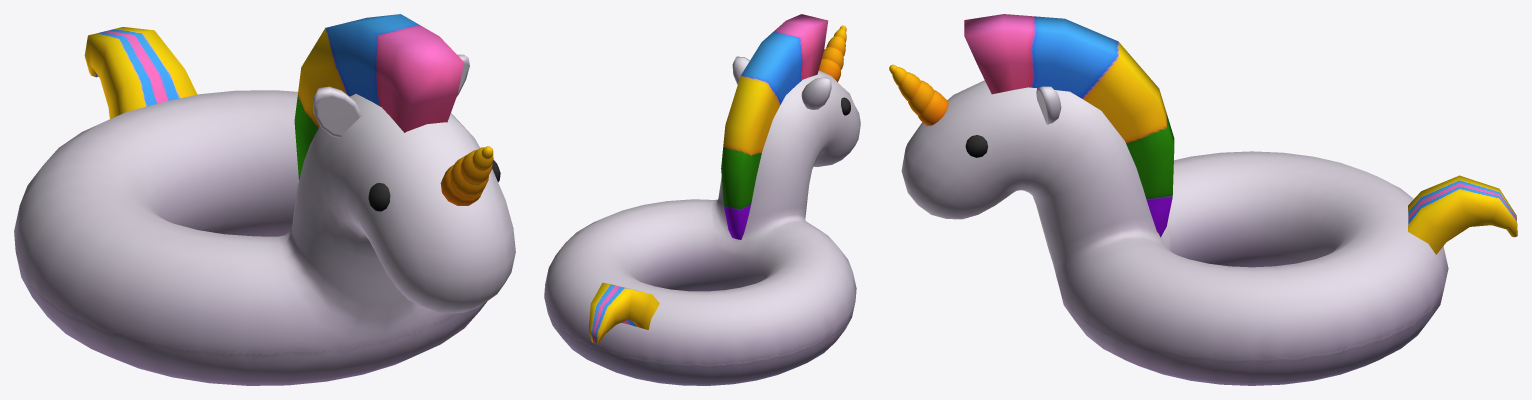
File: Phao5.fbx
3 renders of one model, left to right at view 1: azimuth 30°, elevation 25°; view 2: azimuth 150°, elevation 25°; view 3: azimuth 270°, elevation 25°, orthographic. The views are drawn at different scales.
Visible parts, largest first — view 1: UnicornRing_UnicornRing_0.001; view 2: UnicornRing_UnicornRing_0.001; view 3: UnicornRing_UnicornRing_0.001.
Boxes of the visible parts, bbox=[...] form: UnicornRing_UnicornRing_0.001: bbox=[14, 14, 515, 385]; UnicornRing_UnicornRing_0.001: bbox=[544, 14, 860, 385]; UnicornRing_UnicornRing_0.001: bbox=[889, 14, 1517, 385].
Size of the model in its own units: 1.34 by 1.13 by 2.14.
